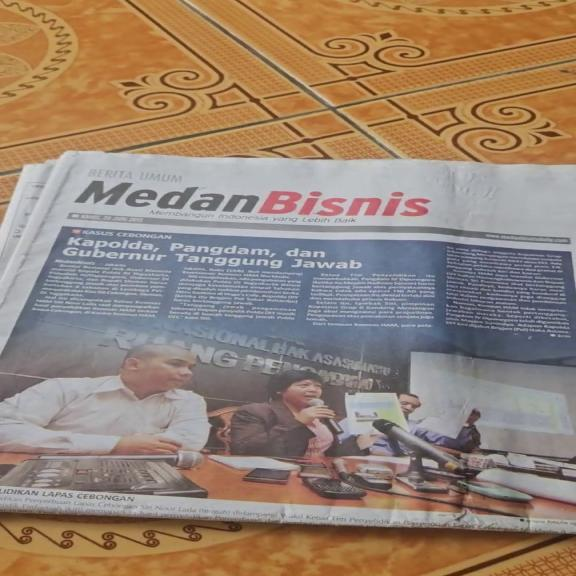Kertas: (1, 153, 571, 530)
